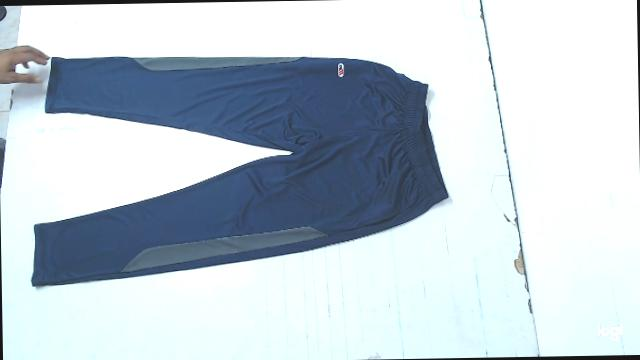new-garment: (32, 56, 448, 285)
